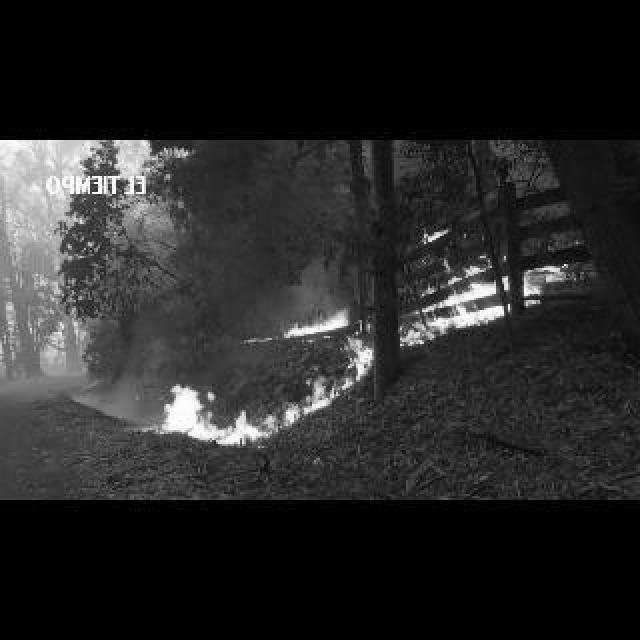Fire: (162, 378, 330, 448), (402, 262, 510, 344), (524, 264, 570, 306), (340, 336, 374, 390), (286, 308, 350, 336), (422, 226, 452, 244), (234, 334, 274, 346)
